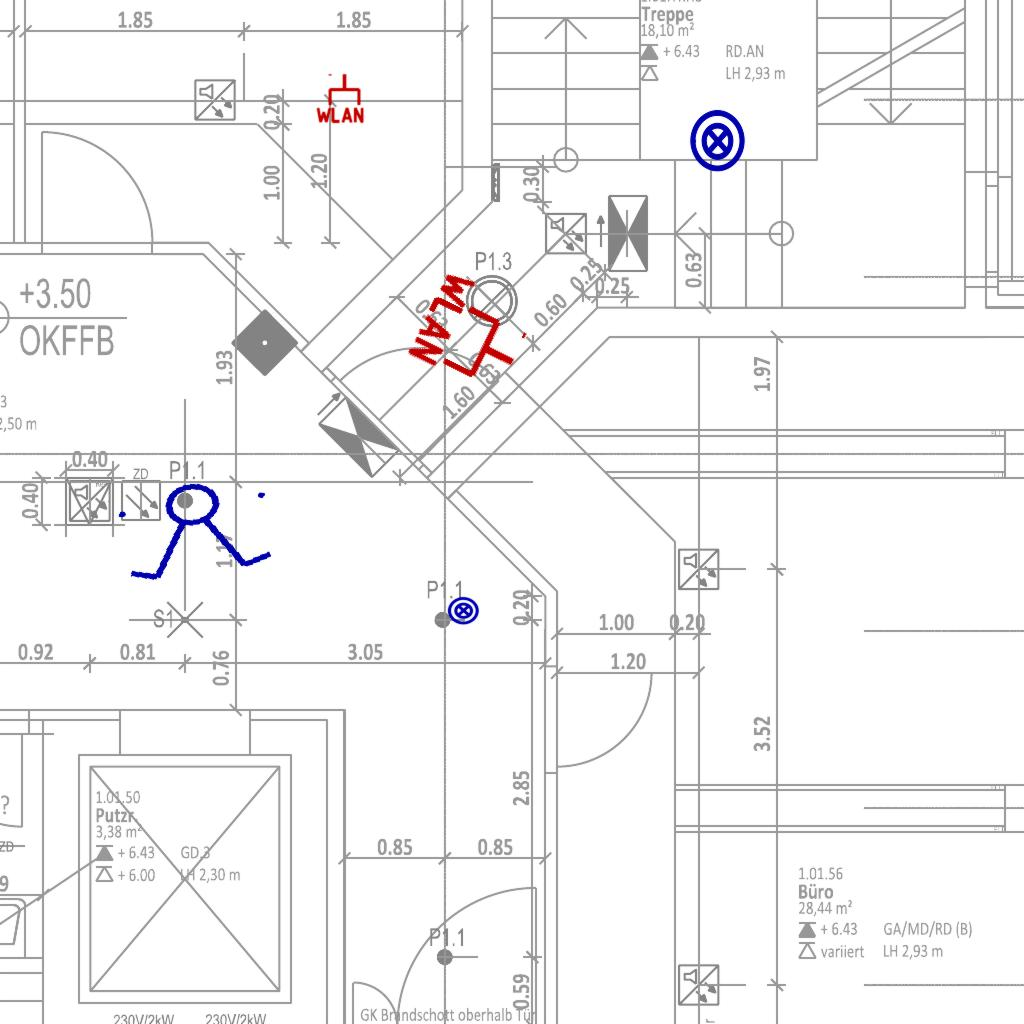Serienschalter: (107, 470, 287, 590)
Taster_beleuchtet: (685, 108, 751, 174), (447, 594, 480, 627)
WLAN: (403, 263, 544, 403), (314, 72, 366, 124)
